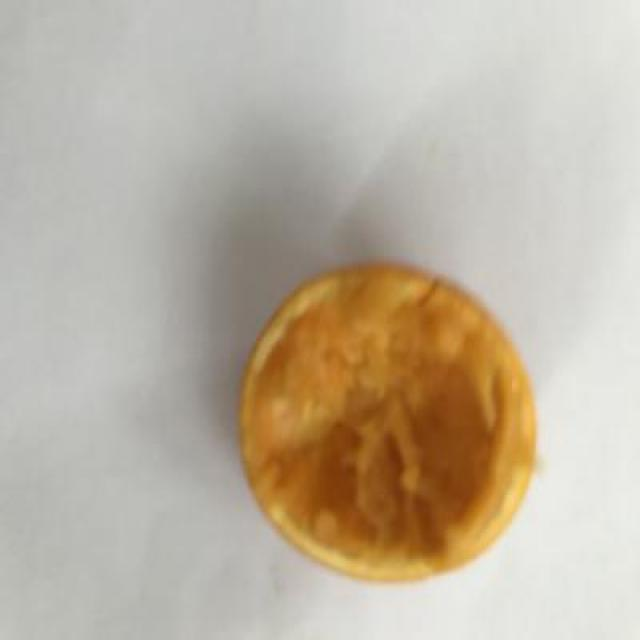compost: (224, 230, 558, 590)
